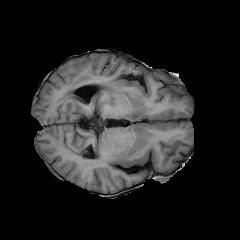glioma: (60, 71, 116, 107)
